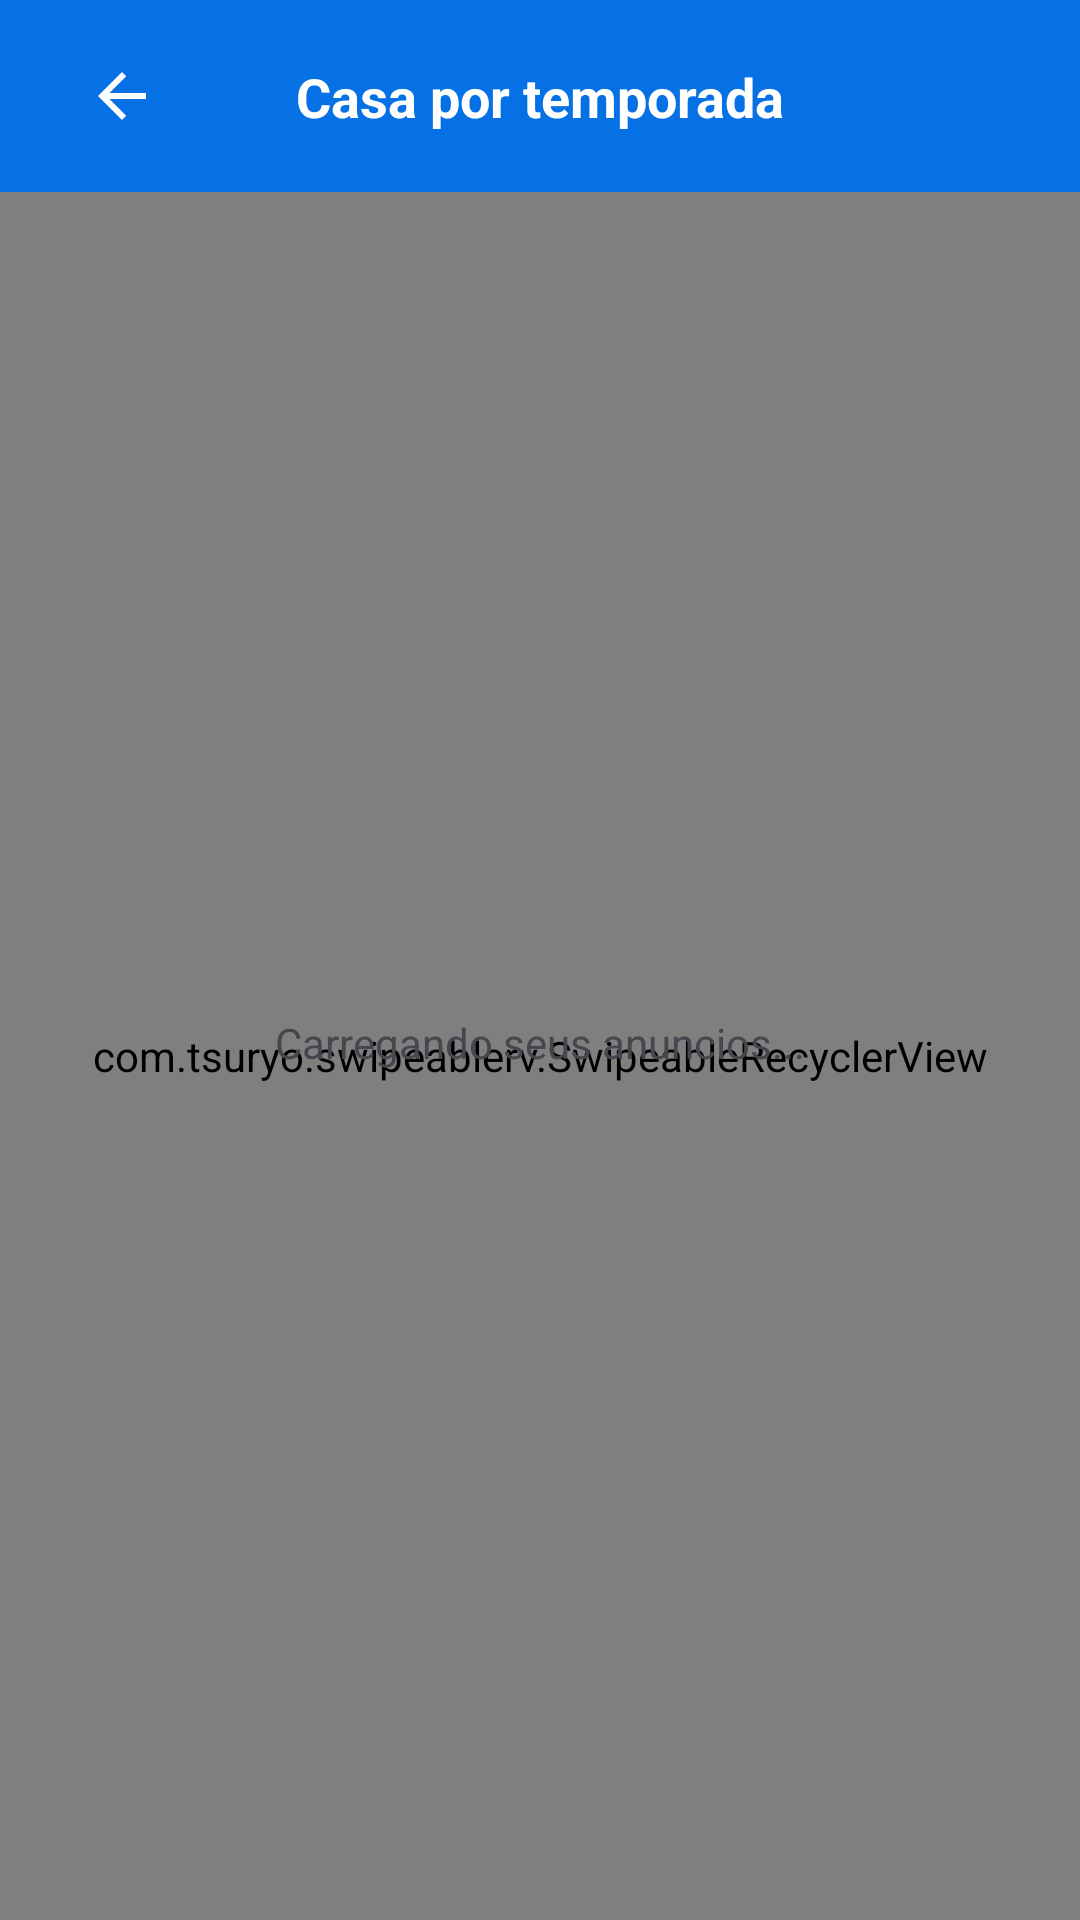

Icons on this 1080px x 1920px Android screen, each with its box as (x1, y1, x2, y2):
back: (98, 72, 146, 120)
